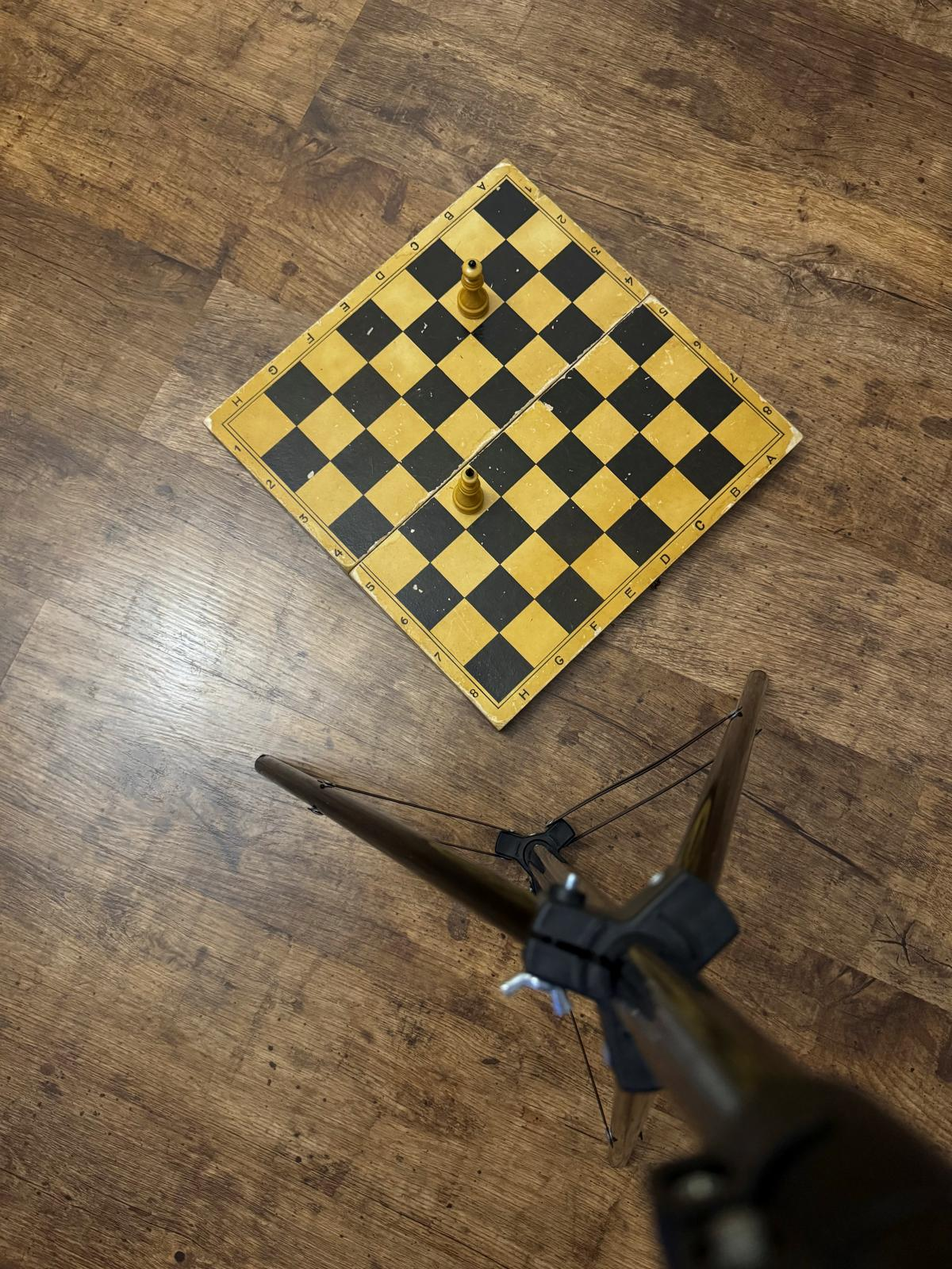Chess-Board: (228, 179, 778, 703)
